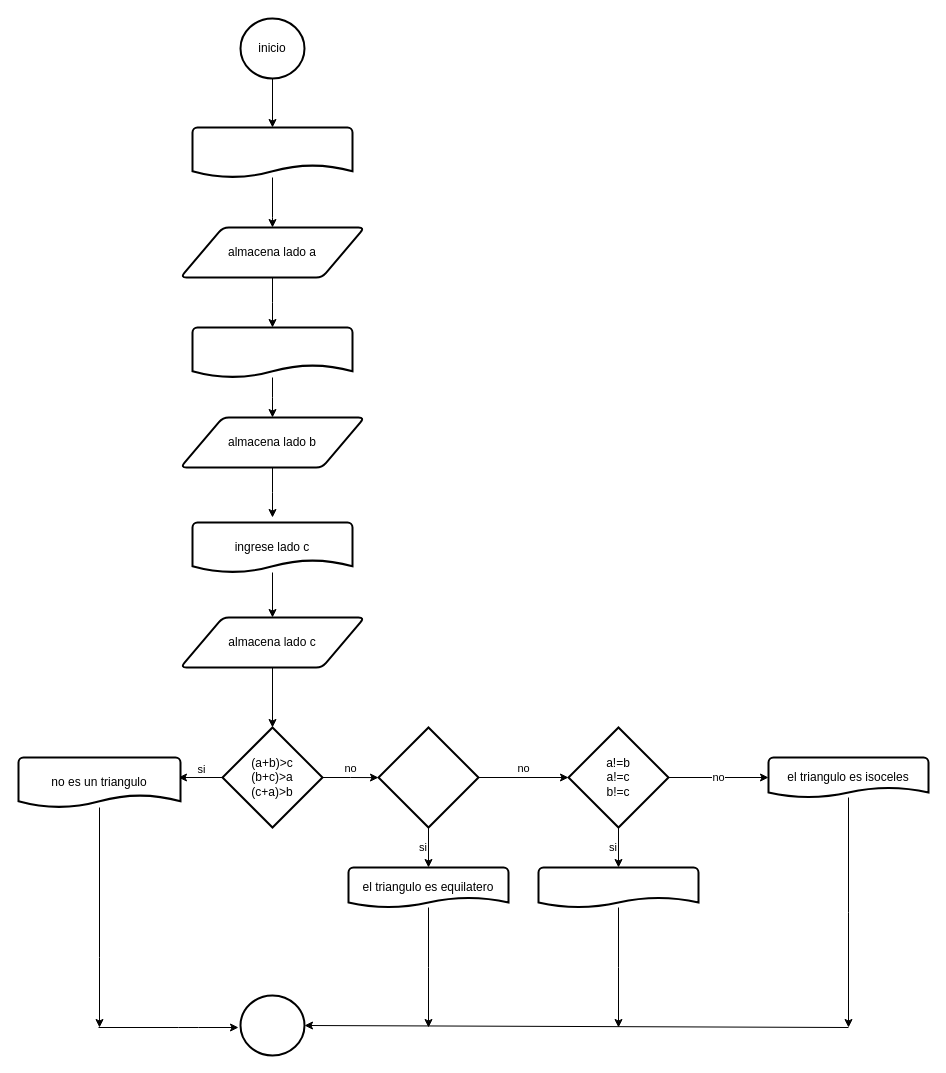
Image size: 946x1073. Some labels were removed from this diagram. The shapes that lost their labels are listed below. From the top down, each one's centre as x and y in pixels, then its label:
(272,152): ingrese lado a
(272,352): ingrese lado b
(428,777): a = b a = c
(618,887): el triangulo es escaleno
(272,1025): fin
